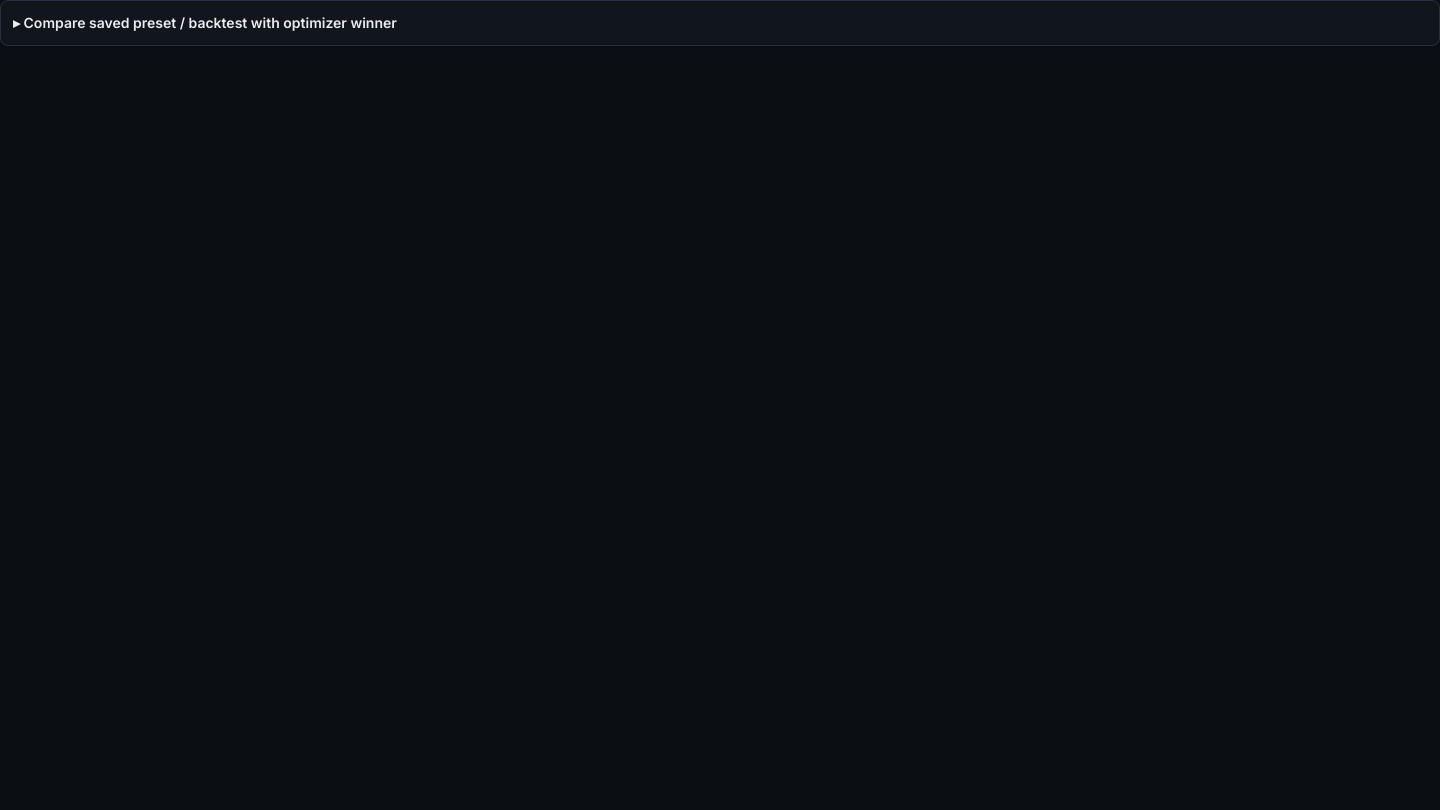
Test: preset selection displays its policy without calling it an effective result
This screenshot has width=1440, height=810.
Click the button "▸ Compare saved preset / backtest with optimizer winner". click: click(208, 22)
box: x1=1 y1=1 x2=1439 y2=45
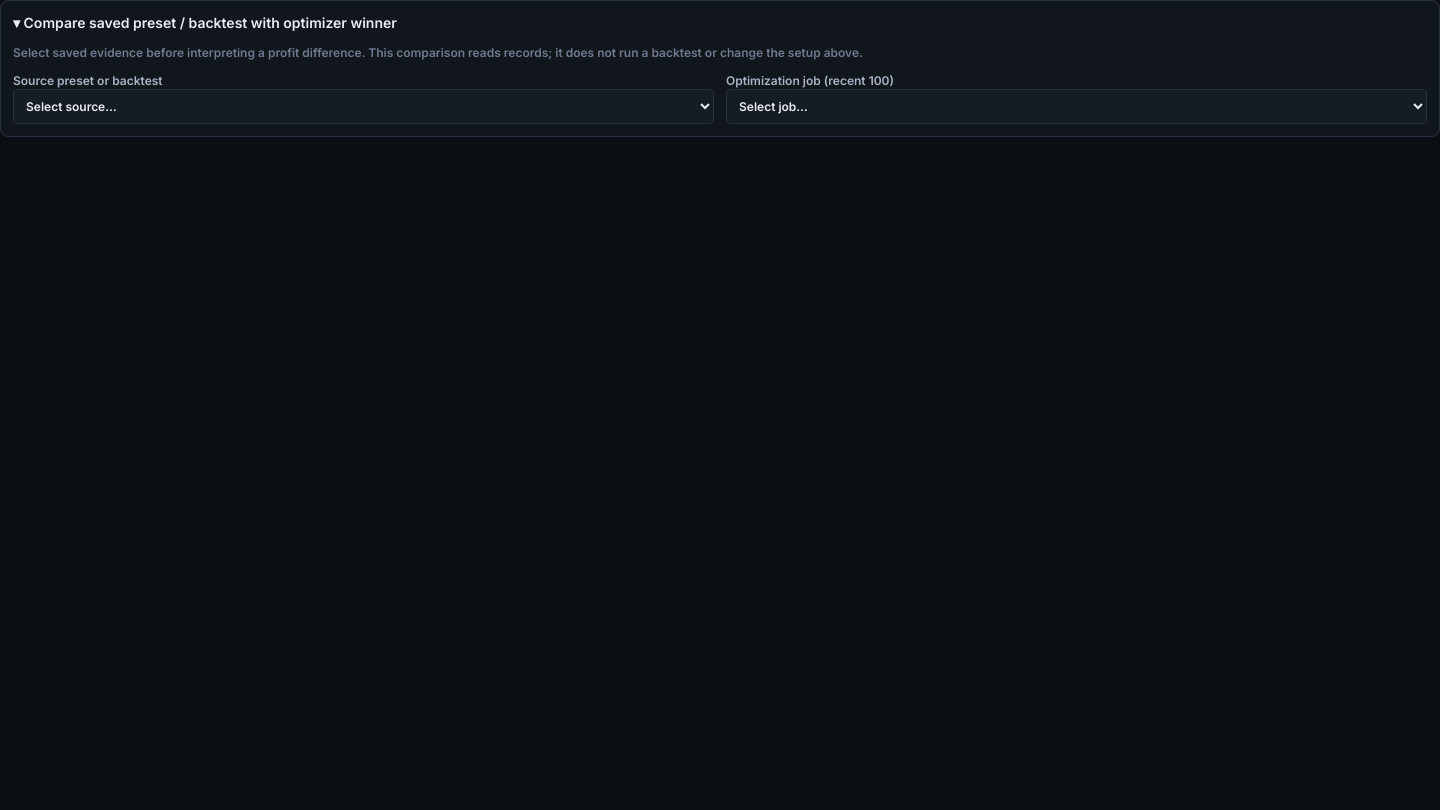
Select "Known" in the dropdown labelled "Source preset or backtest". click: (364, 106)
box: x1=13 y1=89 x2=714 y2=124
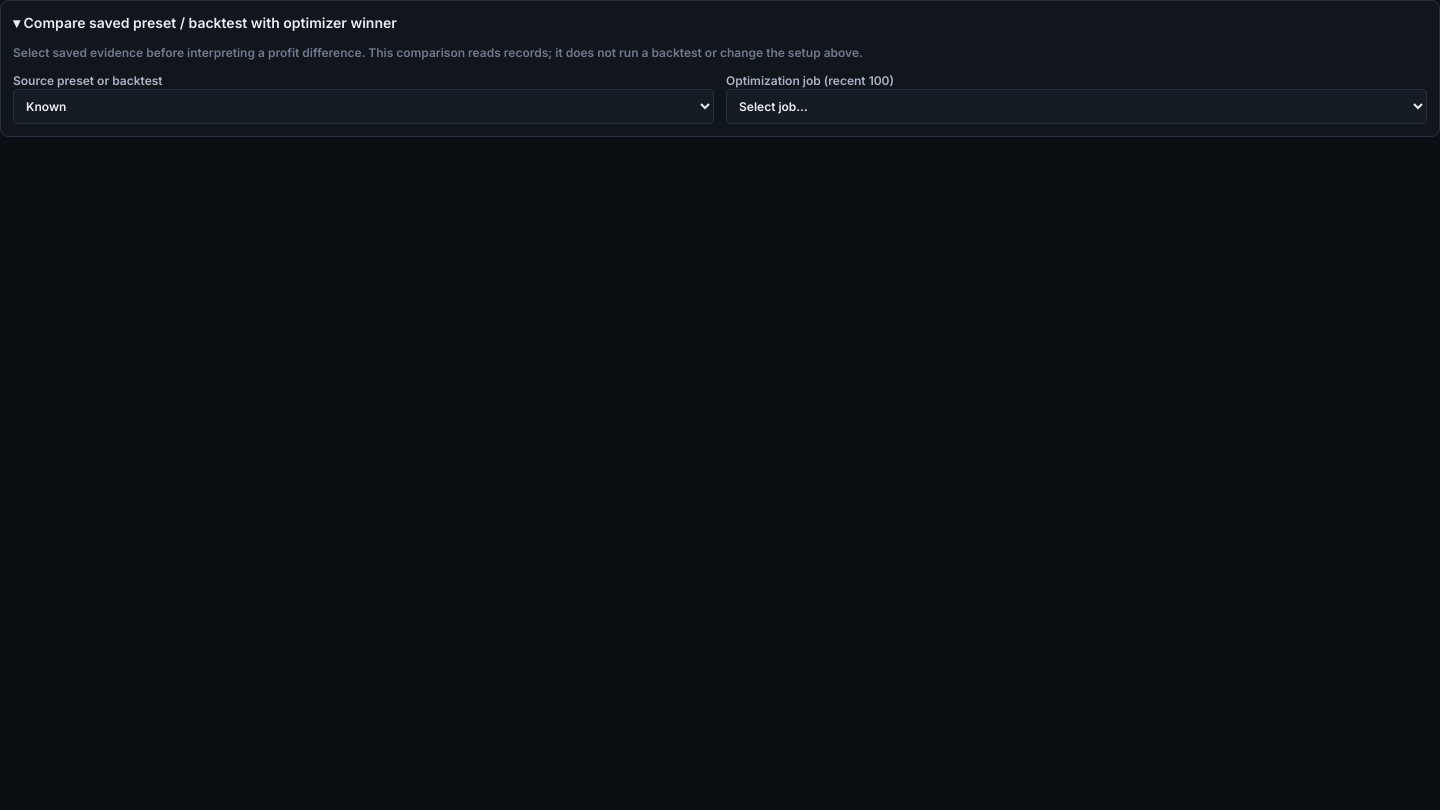
Select "Saved job · done · job" in the dropdown labelled "Optimization job (recent 100)". click: (1076, 106)
box: x1=726 y1=89 x2=1427 y2=124
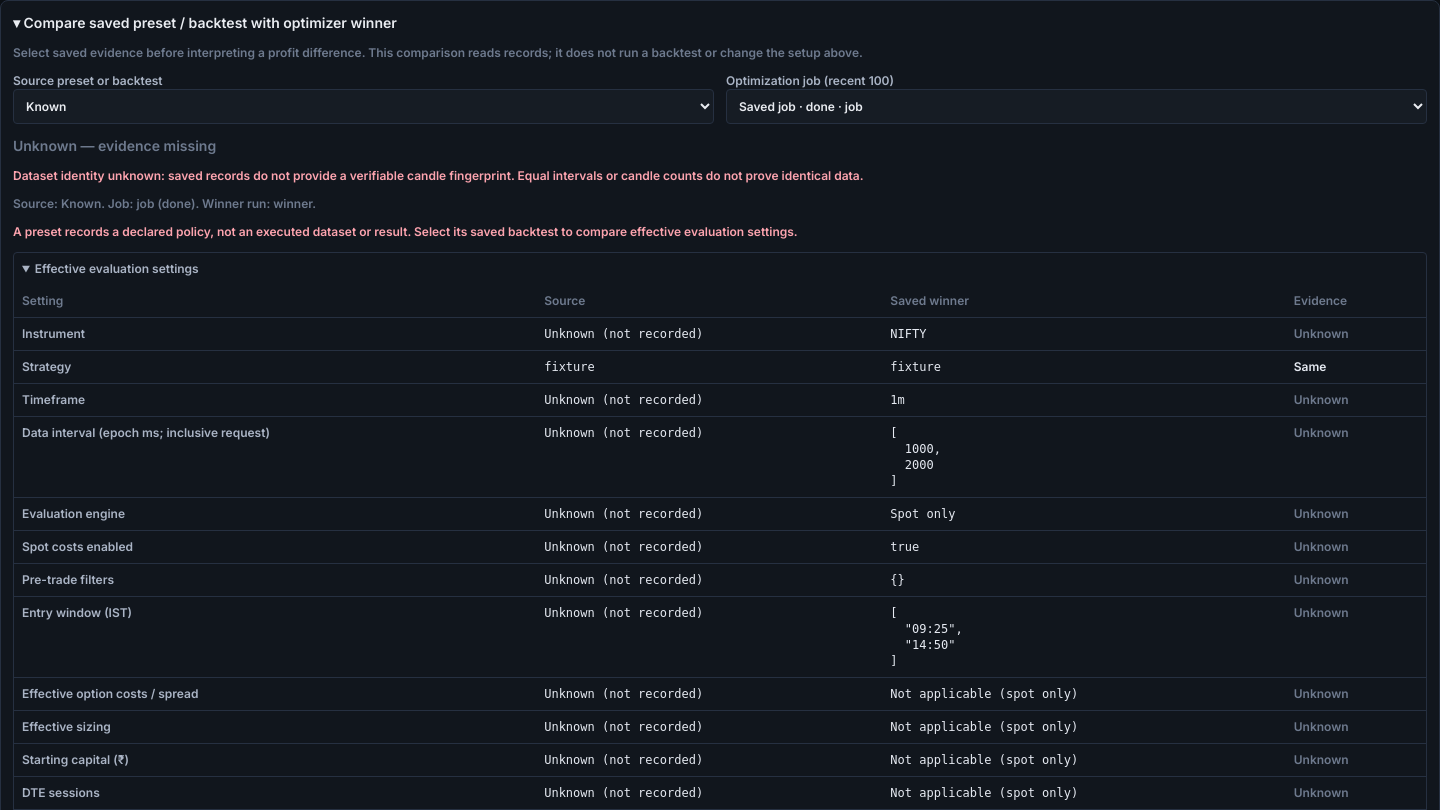
Check: the text "A preset records a declared policy" is shown, box x1=13 y1=224 x2=798 y2=239
Check: the text with test id "research-comparison-status" shows "Unknown", box x1=13 y1=137 x2=216 y2=154
